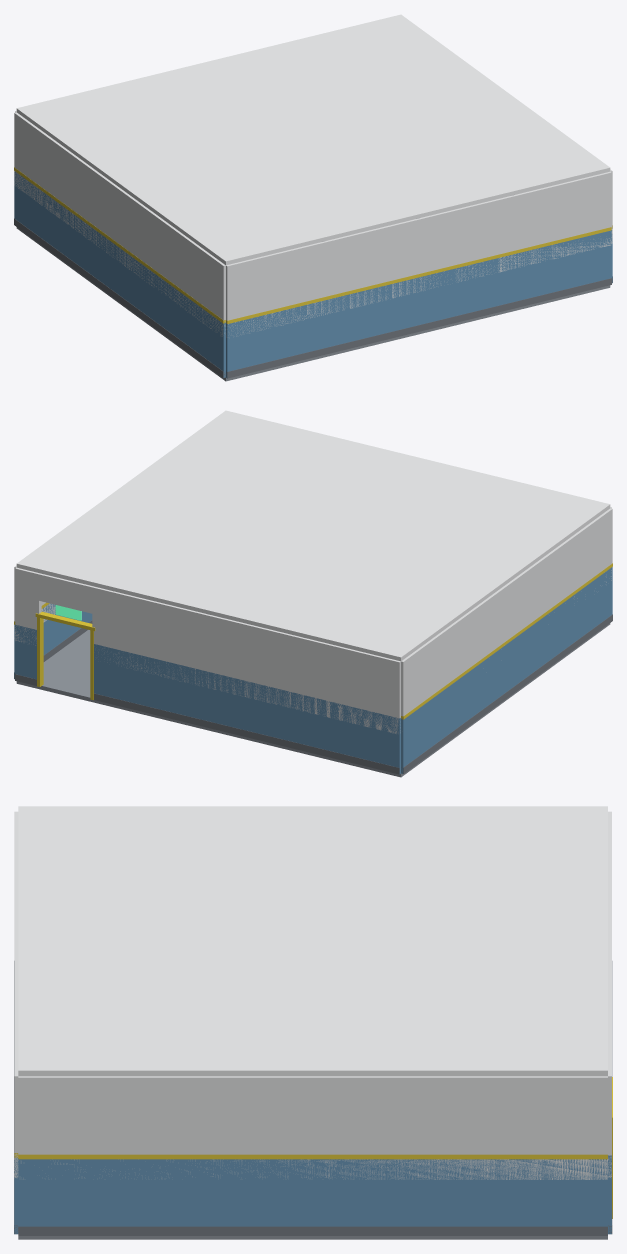
Rendered from APD_Room.fbx.
3 renders of one model, top to bottom at view 1: azimuth 30°, elevation 25°; view 2: azimuth 150°, elevation 25°; view 3: azimuth 270°, elevation 25°, orthographic. The views are drawn at different scales.
Visible parts, largest first — view 1: Ceiling, Wall_Back_up, Wall_Back_dado, Wall_Left_up, Wall_Left_dado, Wall_Back_skirt, Floor, Wall_Left_skirt, Wall_Back_band, Wall_Left_band; view 2: Ceiling, Wall_Front_L_up, Wall_Front_L_dado, Wall_Left_up, Wall_Left_dado, Floor, Wall_Front_L_skirt, Wall_Front_Header, Wall_Left_skirt, Wall_Front_R_up, Wall_Front_R_dado, Wall_Right_dado (+1 smaller); view 3: Ceiling, Wall_Right_up, Wall_Right_dado, Wall_Right_skirt, Wall_Right_band, Floor, Wall_Back_up, Wall_Front_L_up.
Part boxes in pixels (box(x1,y1,x2,y2)): Ceiling: box(16, 14, 610, 265); Wall_Back_up: box(226, 171, 611, 337); Wall_Back_dado: box(226, 230, 611, 378); Wall_Left_up: box(14, 112, 225, 336); Wall_Left_dado: box(14, 171, 225, 377); Wall_Back_skirt: box(226, 278, 611, 378); Floor: box(16, 227, 610, 381); Wall_Left_skirt: box(14, 218, 225, 377); Wall_Back_band: box(226, 227, 611, 323); Wall_Left_band: box(14, 167, 225, 323); Ceiling: box(16, 410, 610, 661); Wall_Front_L_up: box(92, 586, 400, 733); Wall_Front_L_dado: box(94, 644, 400, 774); Wall_Left_up: box(401, 508, 612, 716); Wall_Left_dado: box(401, 567, 612, 773); Floor: box(16, 623, 610, 777); Wall_Front_L_skirt: box(94, 693, 399, 774); Wall_Front_Header: box(34, 572, 97, 614); Wall_Left_skirt: box(401, 614, 612, 773); Wall_Front_R_up: box(15, 567, 41, 645); Wall_Front_R_dado: box(15, 624, 36, 679); Wall_Right_dado: box(14, 603, 92, 678); Ceiling: box(18, 806, 607, 1076); Wall_Right_up: box(18, 1076, 607, 1179); Wall_Right_dado: box(18, 1159, 607, 1226); Wall_Right_skirt: box(18, 1226, 607, 1235); Wall_Right_band: box(18, 1154, 607, 1159); Floor: box(18, 1236, 607, 1239); Wall_Back_up: box(14, 811, 18, 1177); Wall_Front_L_up: box(608, 811, 611, 1019).
Bounding box in the file's own units: 1236 × 364 × 1168.
